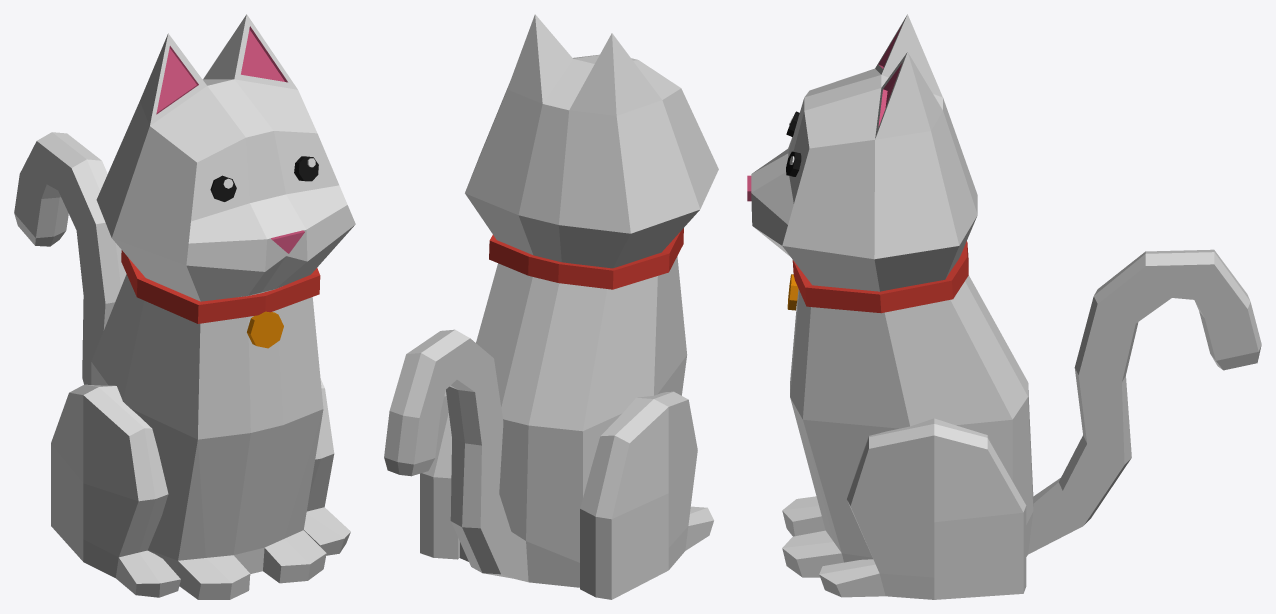
File: Cat_01.fbx
The picture shows the model from 3 angles, left to right: view 1: azimuth 30°, elevation 25°; view 2: azimuth 150°, elevation 25°; view 3: azimuth 270°, elevation 25°; orthographic projection. The views are drawn at different scales.
Visible parts, largest first — view 1: Cat_01; view 2: Cat_01; view 3: Cat_01.
Boxes of the visible parts, left/top/right/bottom form: Cat_01: left=14, top=14, right=355, bottom=599; Cat_01: left=384, top=14, right=718, bottom=599; Cat_01: left=747, top=14, right=1261, bottom=599.
Bounding box in the file's own units: 2.82 × 6.24 × 5.66.
